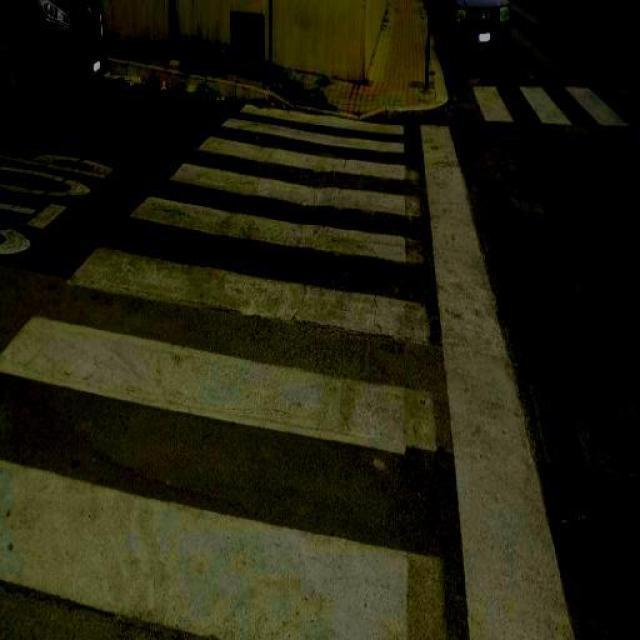crosswalk: (0, 103, 448, 640), (471, 78, 640, 130)
